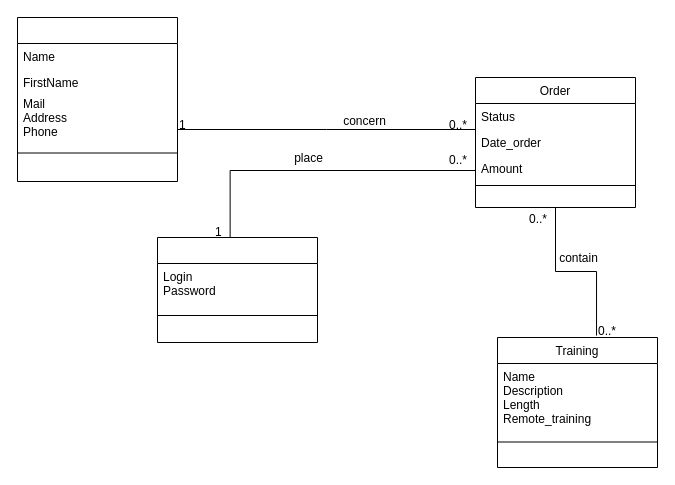
Image size: 675x485. Some labels were removed from this diagram. Each missing label, with the box of its shape:
Customer: (16, 16, 178, 182)
User: (156, 236, 318, 342)
